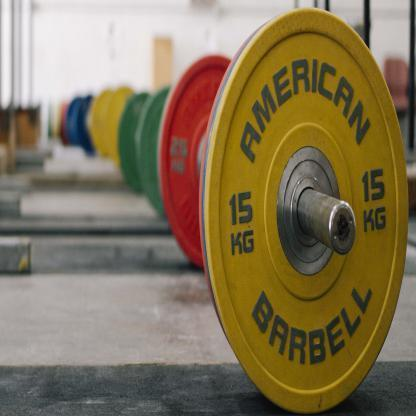barbell: (202, 6, 410, 416)
